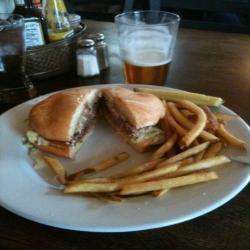burger: (22, 80, 107, 161), (100, 84, 170, 152)
fries: (161, 86, 236, 196)
